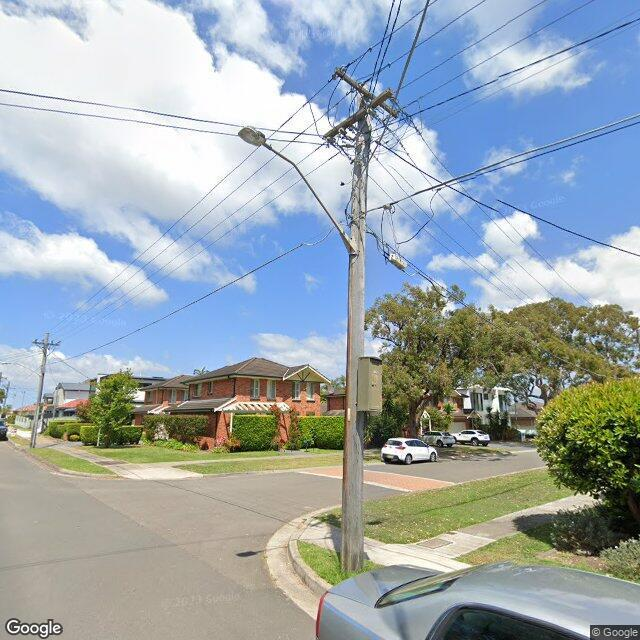crossarm: (321, 89, 394, 142), (332, 66, 401, 120), (32, 341, 59, 347)
streetlight: (239, 124, 358, 254), (2, 362, 41, 378)
timber-pole: (342, 104, 364, 573), (30, 334, 50, 449)
